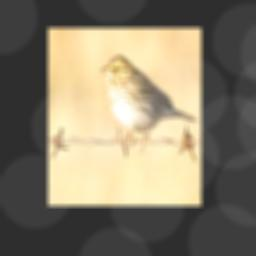Sparrow: (98, 51, 198, 153)
